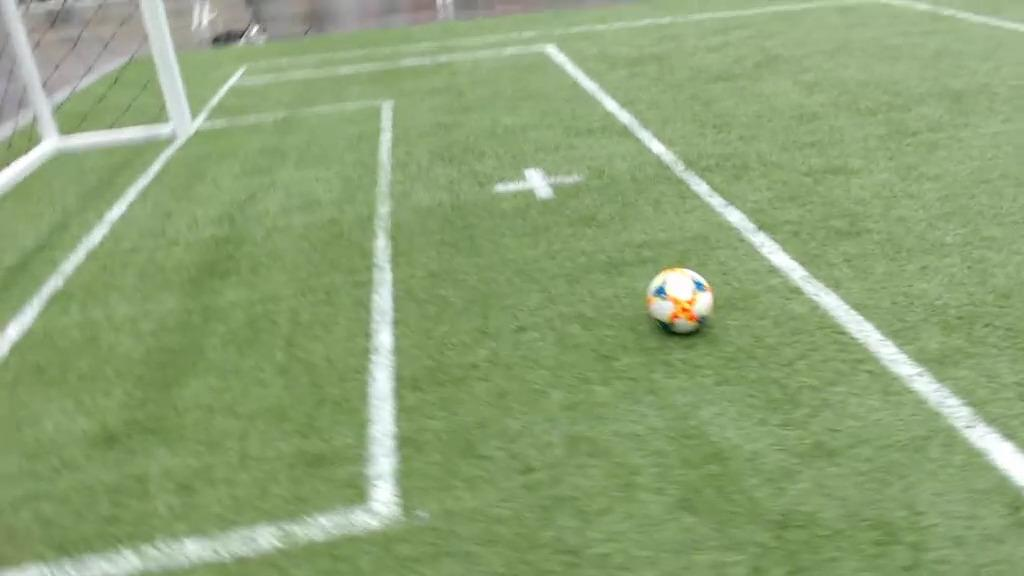ball: (643, 268, 713, 333)
